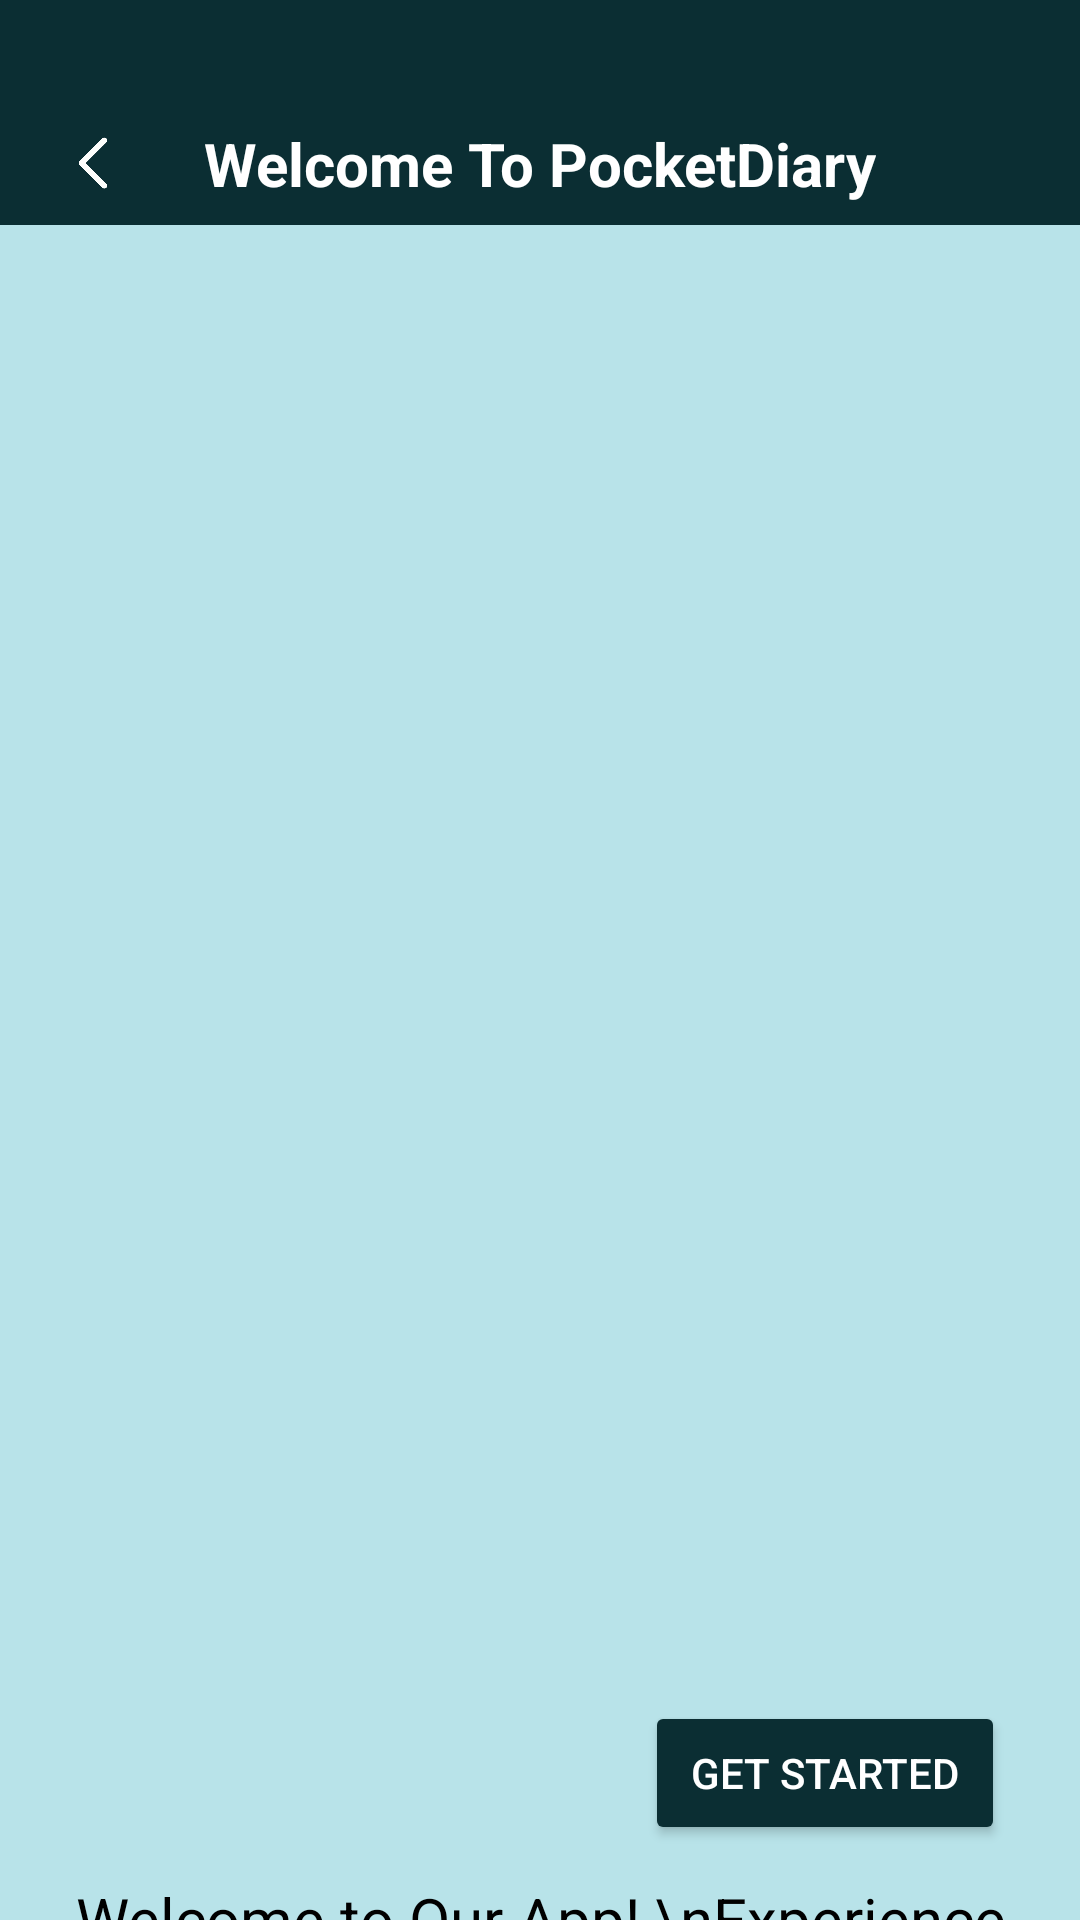

Named icons in this screenshot (1080w x 1920h) and their bounding boxes, rect(x1, y1, x2, y2):
Back: rect(79, 137, 107, 189)
